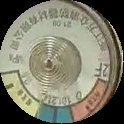green: (37, 98, 76, 124)
red: (70, 79, 114, 120)
yellow: (1, 72, 43, 119)
